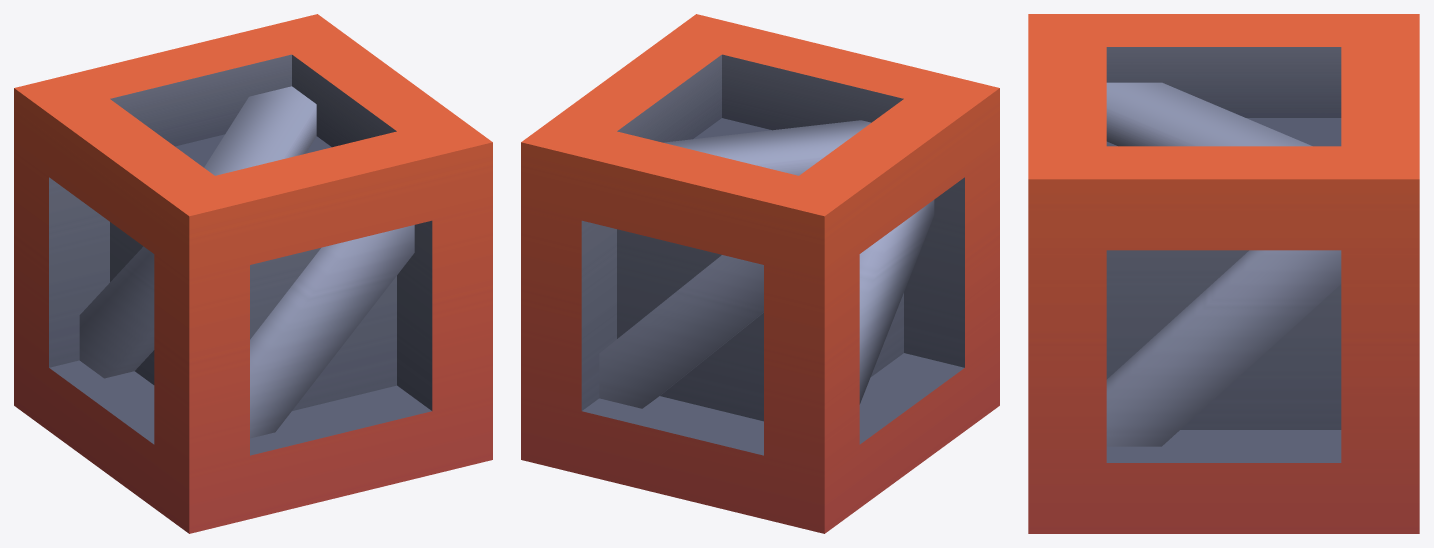
Rendered from crate-color.fbx.
3 renders of one model, left to right at view 1: azimuth 30°, elevation 25°; view 2: azimuth 150°, elevation 25°; view 3: azimuth 270°, elevation 25°, orthographic. The views are drawn at different scales.
Parts seen in each view (by area): view 1: crate-color; view 2: crate-color; view 3: crate-color.
Part boxes in pixels (<box>): crate-color: <box>14,14,492,533</box>; crate-color: <box>521,14,999,533</box>; crate-color: <box>1028,14,1419,533</box>.
Size of the model in its own units: 50 by 50 by 50.
